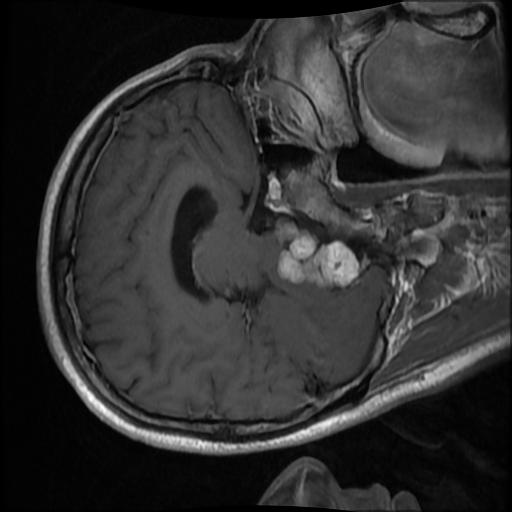meningioma: (274, 218, 359, 289)
